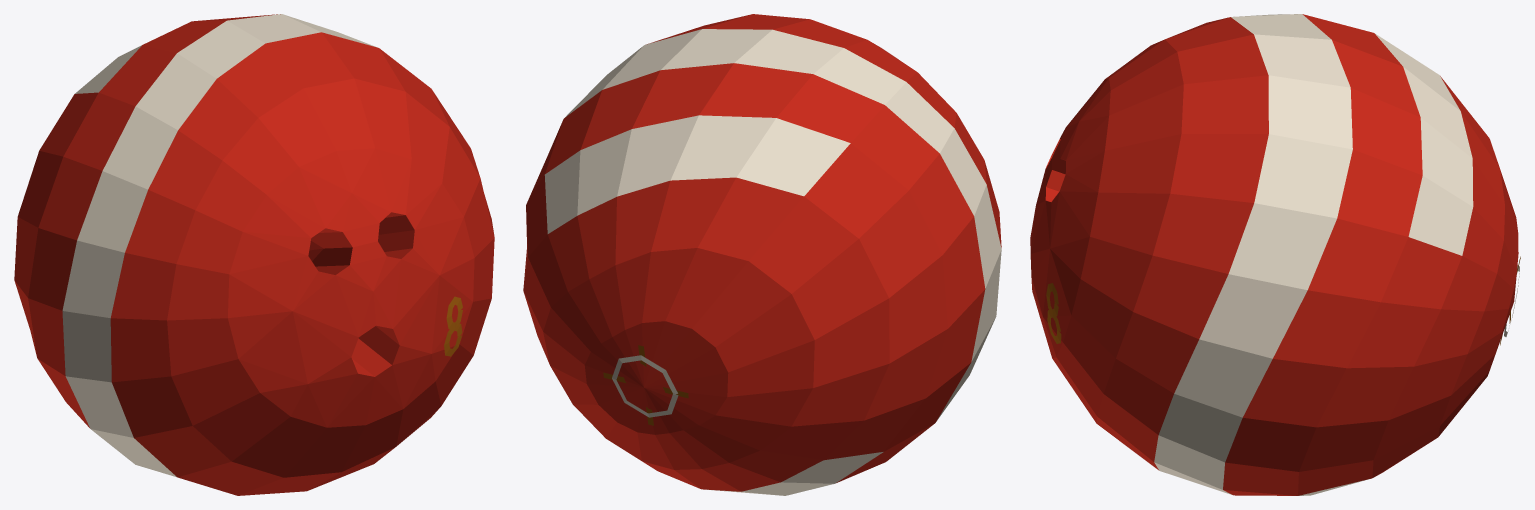
The model's file is cozy_bowling_ball_08lb.obj.
The picture shows the model from 3 angles, left to right: view 1: azimuth 30°, elevation 25°; view 2: azimuth 150°, elevation 25°; view 3: azimuth 270°, elevation 25°; orthographic projection.
Parts seen in each view (by area): view 1: Ball_08lb_Mesh; view 2: Ball_08lb_Mesh; view 3: Ball_08lb_Mesh.
Part boxes in pixels (box(x1,y1,x2,y2)): Ball_08lb_Mesh: box(14, 14, 494, 495); Ball_08lb_Mesh: box(523, 14, 1001, 495); Ball_08lb_Mesh: box(1030, 14, 1520, 495).
Bounding box in the file's own units: 0.2161 × 0.2161 × 0.2171.
